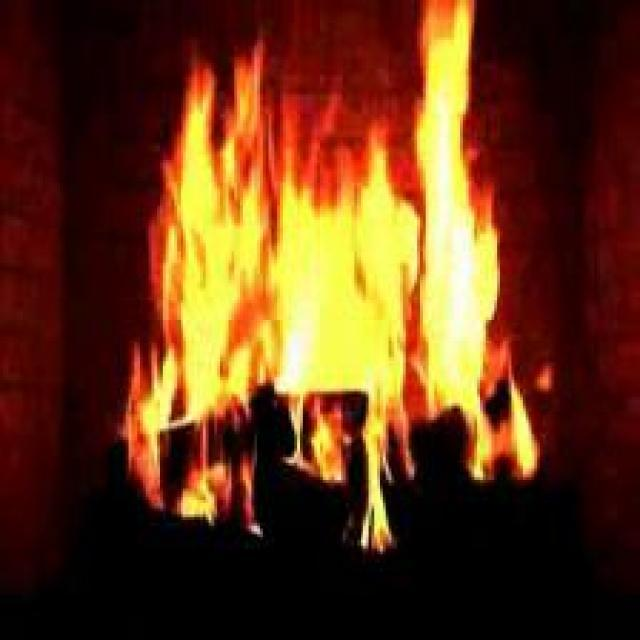Fire: (112, 0, 538, 553)
